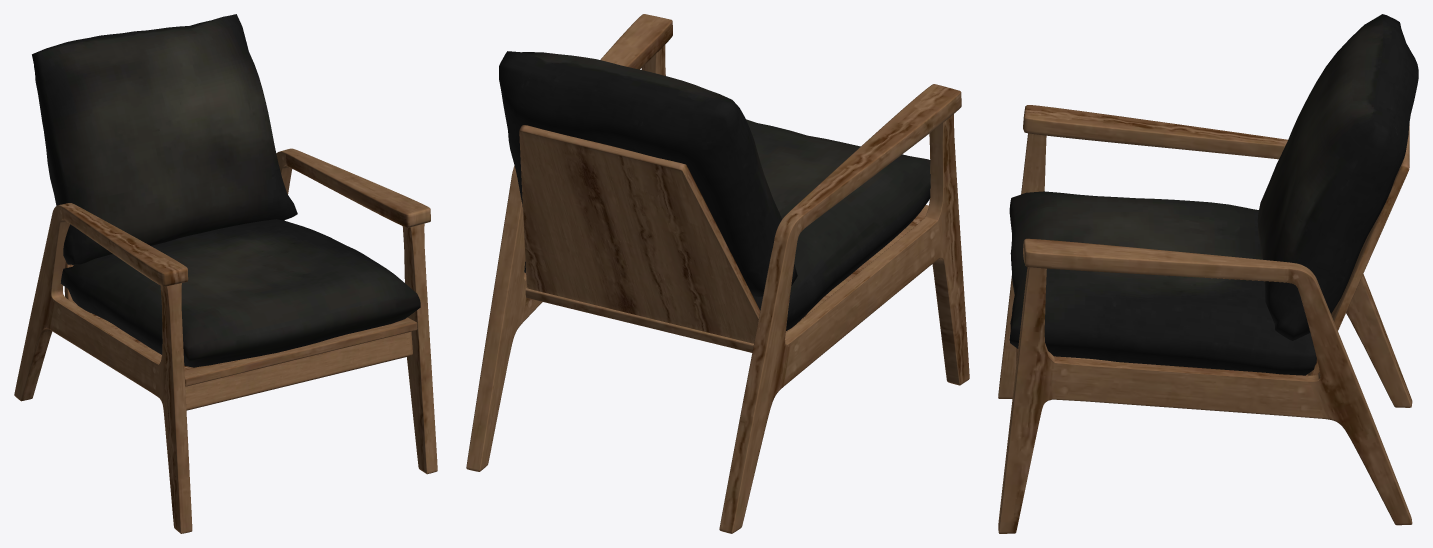
Rendered from armchair_modern.glb.
The picture shows the model from 3 angles, left to right: view 1: azimuth 30°, elevation 25°; view 2: azimuth 150°, elevation 25°; view 3: azimuth 270°, elevation 25°; orthographic projection. The views are drawn at different scales.
Visible parts, largest first — view 1: modern_arm_chair_01; view 2: modern_arm_chair_01; view 3: modern_arm_chair_01.
Boxes of the visible parts, <box> form: modern_arm_chair_01: <box>14,14,437,533</box>; modern_arm_chair_01: <box>466,14,969,533</box>; modern_arm_chair_01: <box>998,14,1418,533</box>.
Bounding box in the file's own units: 0.8203 × 1.02 × 0.9865.
Materials: 2 (2 with a texture image).
